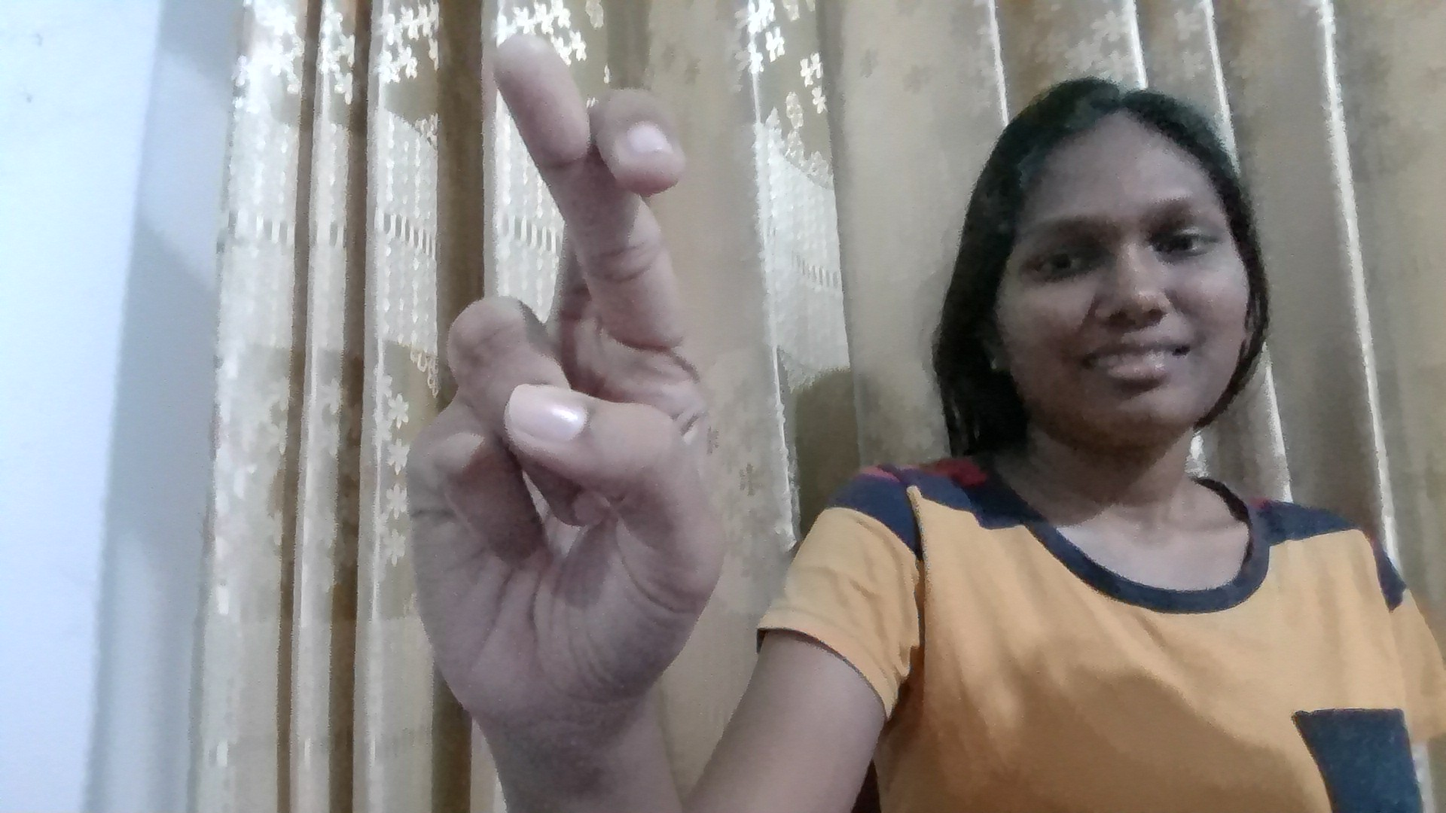Good_Luck: (399, 0, 839, 714)
